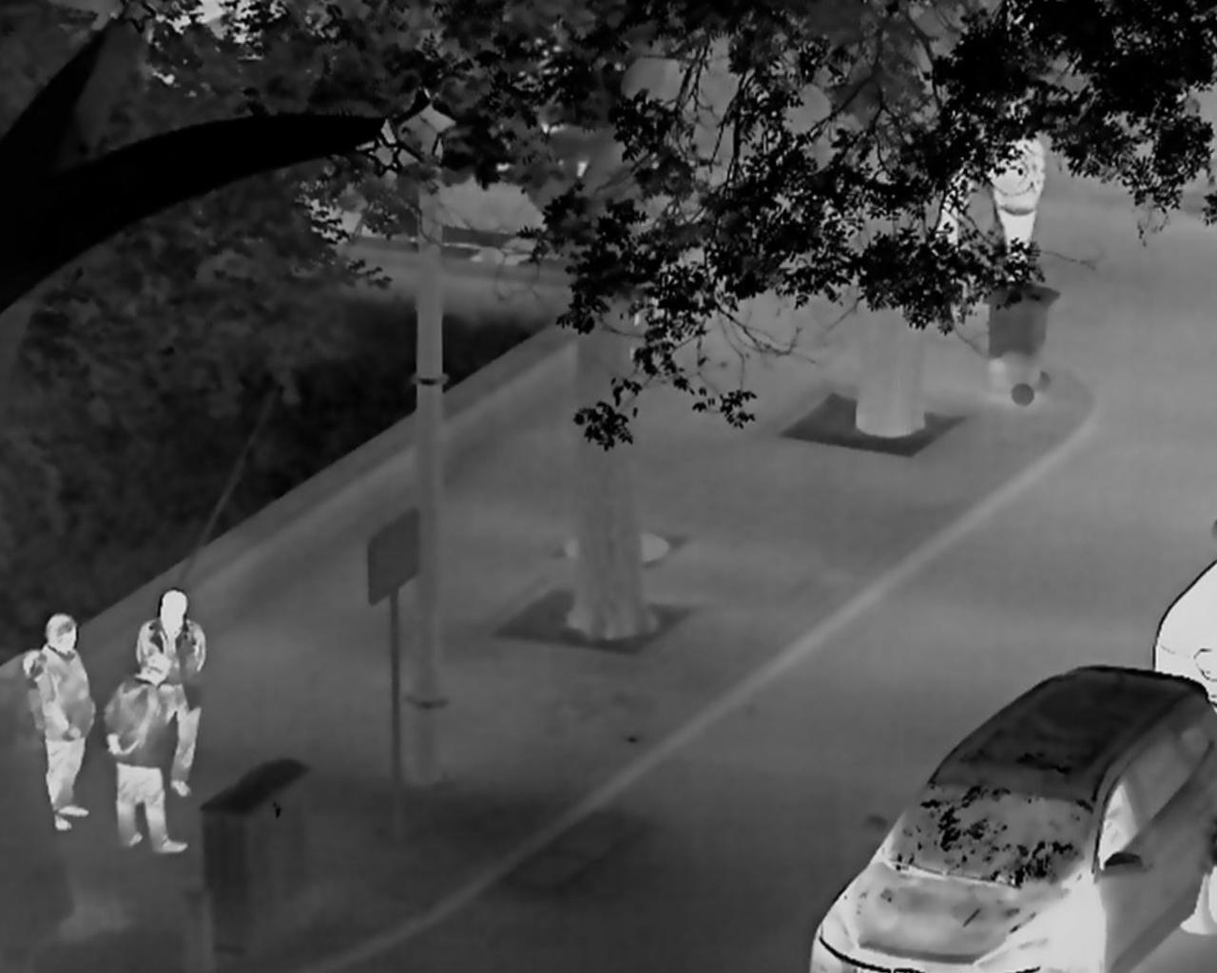person: (103, 654, 191, 855), (133, 587, 209, 799), (37, 611, 96, 834), (986, 101, 1046, 281), (930, 124, 977, 265), (18, 648, 48, 750)
